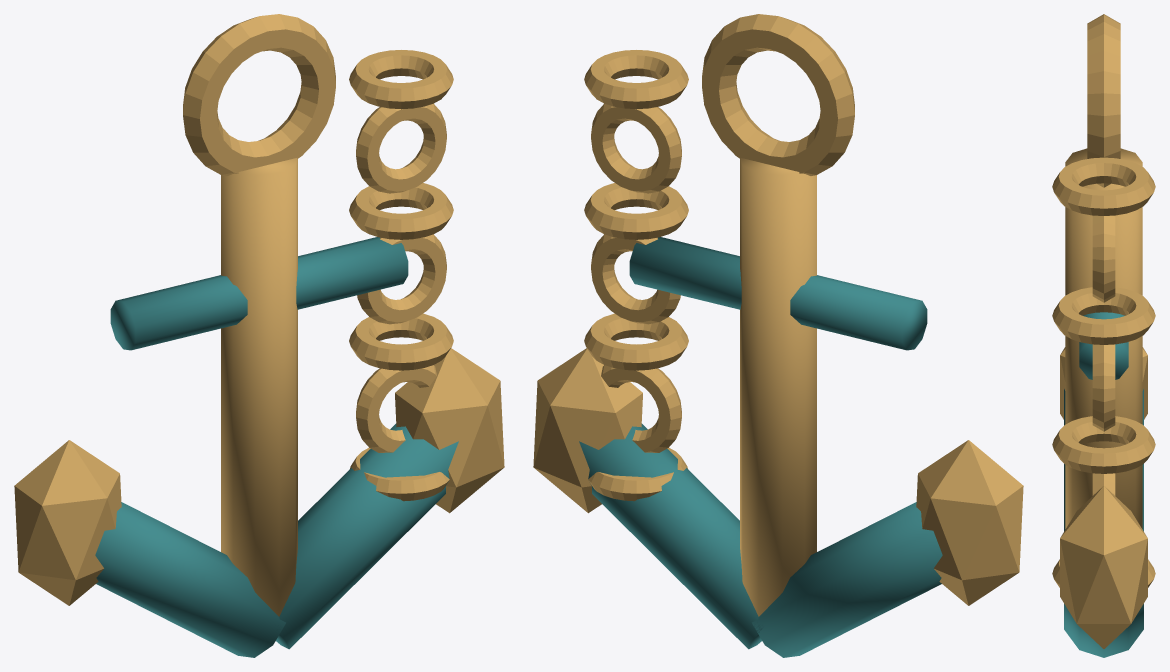
Rendered from relic-harpoonChain.glb.
The picture shows the model from 3 angles, left to right: view 1: azimuth 30°, elevation 25°; view 2: azimuth 150°, elevation 25°; view 3: azimuth 270°, elevation 25°; orthographic projection.
Parts seen in each view (by area): view 1: relic-harpoonChain / Brass | machined champagne, relic-harpoonChain / Paint | North Sea petrol; view 2: relic-harpoonChain / Brass | machined champagne, relic-harpoonChain / Paint | North Sea petrol; view 3: relic-harpoonChain / Brass | machined champagne, relic-harpoonChain / Paint | North Sea petrol.
Boxes of the visible parts, x1,y1,x2,y2 form: relic-harpoonChain / Brass | machined champagne: (14, 14, 504, 616); relic-harpoonChain / Paint | North Sea petrol: (95, 237, 458, 657); relic-harpoonChain / Brass | machined champagne: (533, 14, 1023, 616); relic-harpoonChain / Paint | North Sea petrol: (579, 237, 942, 657); relic-harpoonChain / Brass | machined champagne: (1052, 14, 1155, 648); relic-harpoonChain / Paint | North Sea petrol: (1064, 312, 1143, 657).
Size of the model in its own units: 1.7 by 2.14 by 0.32.
